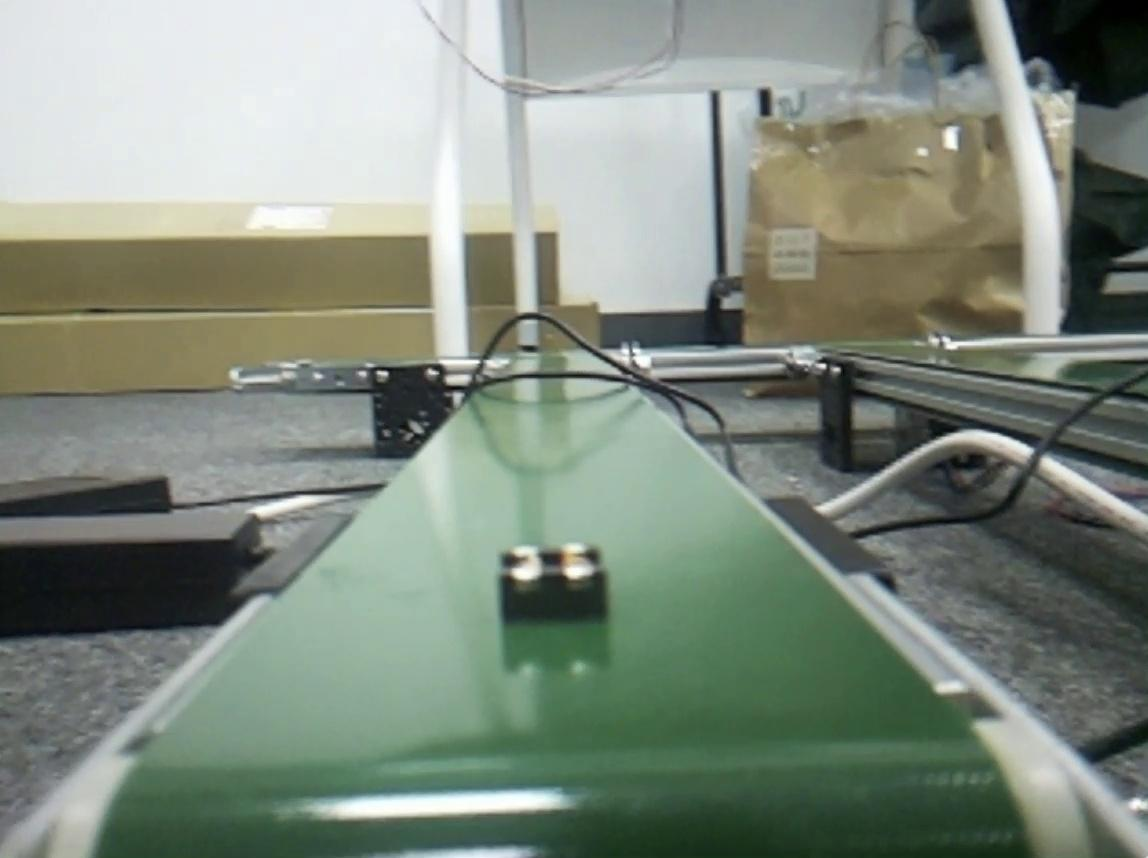inductor: (500, 543, 602, 625)
